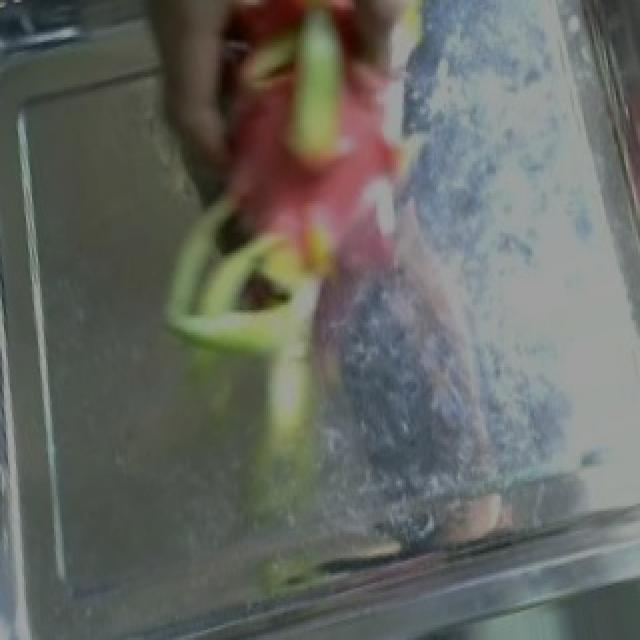fruit: (92, 0, 480, 422)
